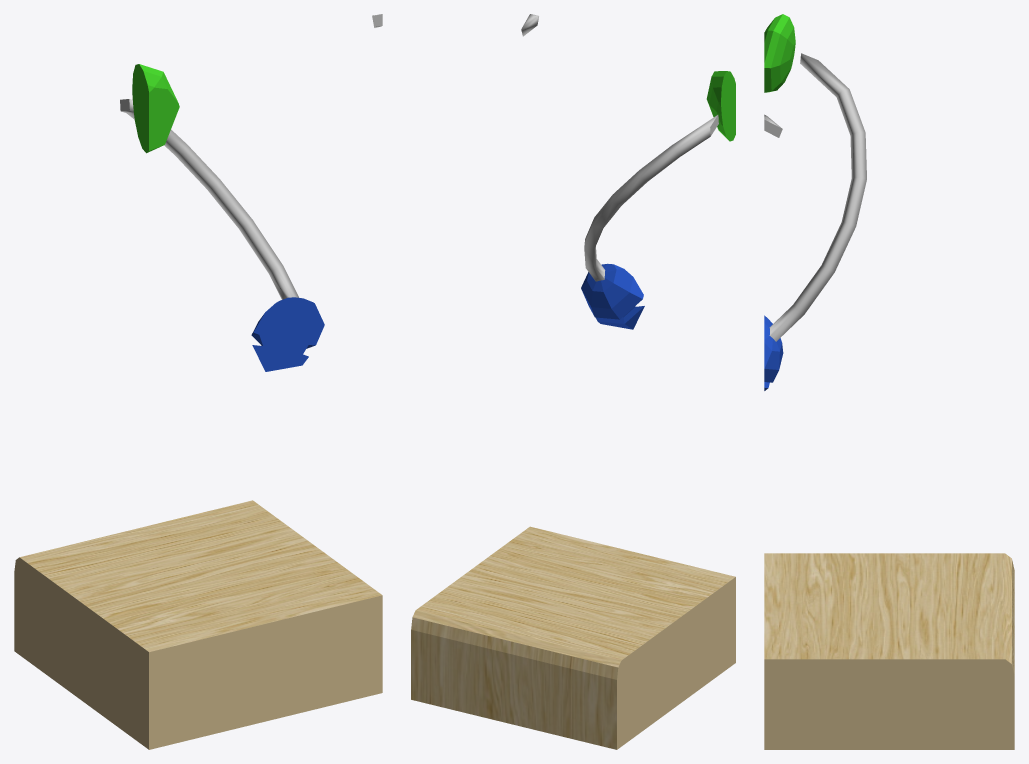
File: 1_Motorikschleife.fbx
3 views of the same model, side by side, from view 1: azimuth 30°, elevation 25°; view 2: azimuth 150°, elevation 25°; view 3: azimuth 270°, elevation 25° (orthographic). The views are drawn at different scales.
Parts seen in each view (by area): view 1: Cube.001; view 2: Cube.001; view 3: Cube.001.
Part boxes in pixels (box(x1,y1,x2,y2)): Cube.001: box(14, 14, 382, 749); Cube.001: box(411, 14, 735, 749); Cube.001: box(764, 14, 1014, 749).
Size of the model in its own units: 500 by 1390 by 500.
